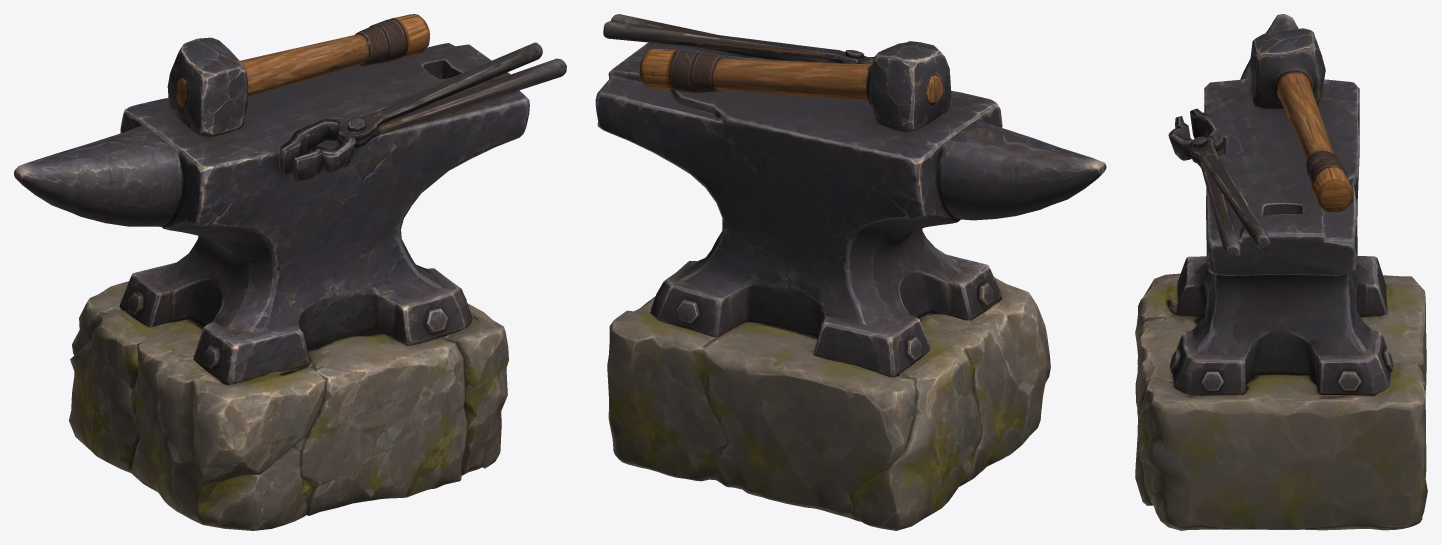
File: dp_f_enclume.glb
3 views of the same model, side by side, from view 1: azimuth 30°, elevation 25°; view 2: azimuth 150°, elevation 25°; view 3: azimuth 270°, elevation 25° (orthographic). The views are drawn at different scales.
Size of the model in its own units: 0.9536 by 0.7383 by 0.4985.
Materials: 1 (1 with a texture image).
